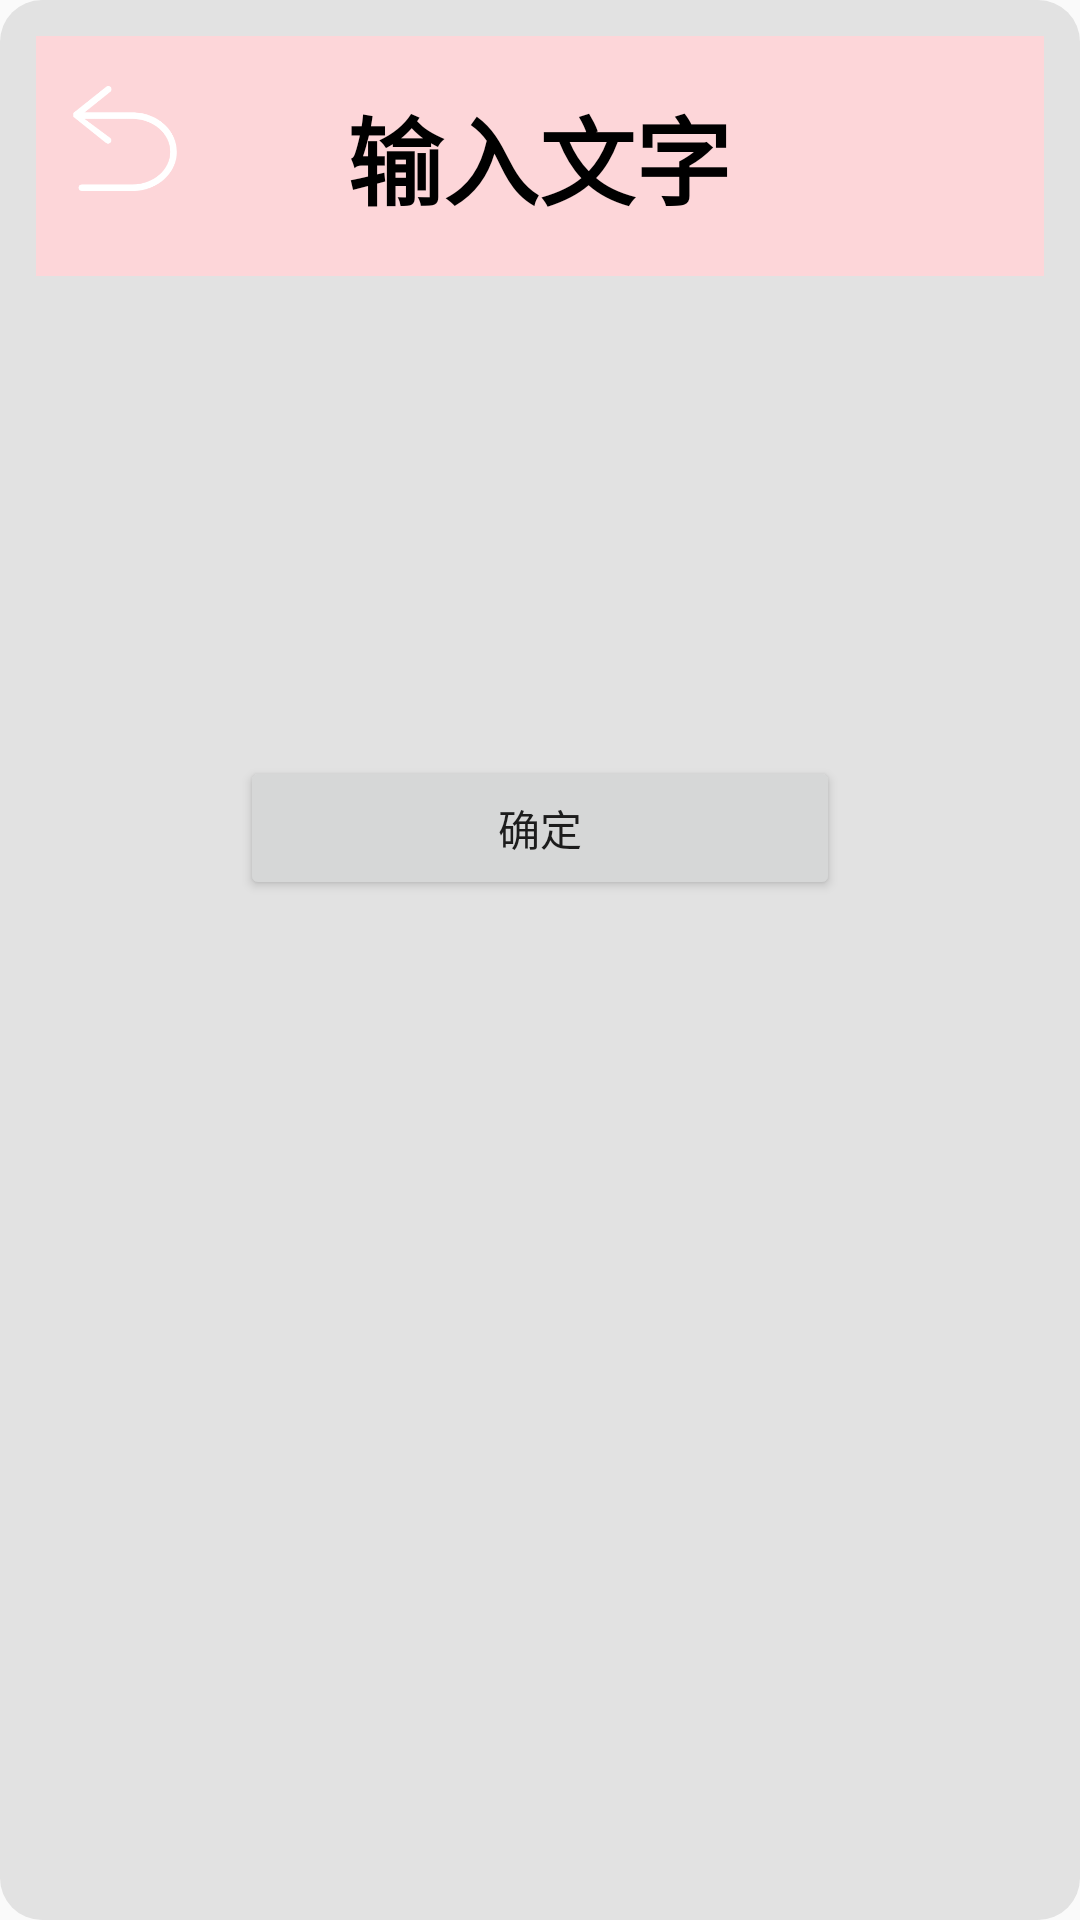

Screen size 1080x1920. Icon name, then its box in pixels as {"left": x1, "top": y1, "right": x2, "bottom": y2}:
back: {"left": 73, "top": 86, "right": 177, "bottom": 191}
